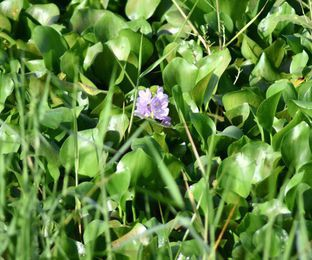water_hyacinth: (1, 2, 311, 223)
